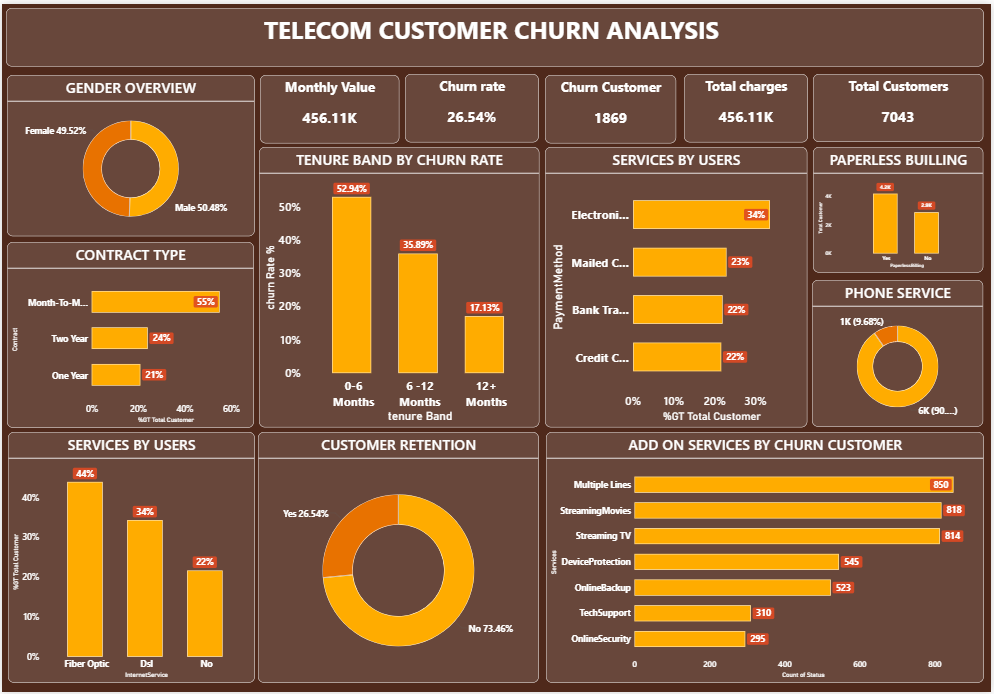

The dashboard page shown, as its layout file describes it:
{"tool":"powerbi","page":{"name":"Page 1","canvas":[2300,1600],"ordinal":0},"visuals":[{"type":"textbox","box":[8.8,8.8,2273.6,136.3],"z":0},{"type":"card","title":"Total Customers","fields":{"Values":["Calculated Measures.Total Customer"]},"box":[1886.6,162.7,395.8,158.3],"z":1000},{"type":"card","title":"Churn rate","fields":{"Values":["Calculated Measures.churn Rate %"]},"box":[937.6,163,311.1,158.7],"z":2000},{"type":"card","title":"Churn Customer","fields":{"Values":["Calculated Measures.Churned Customers"]},"box":[1263.5,165.1,304.8,158.7],"z":3000},{"type":"donutChart","title":"CUSTOMER RETENTION","fields":{"Y":["Calculated Measures.Total Customer"],"Category":["telco_churn_unclean.Churn"]},"box":[595.9,996.1,653.1,582.7],"z":4000},{"type":"clusteredBarChart","title":"CONTRACT TYPE","fields":{"Category":["telco_churn_unclean.Contract"],"Y":["Divide(Calculated Measures.Total Customer, ScopedEval(Calculated Measures.Total Customer, []))"]},"box":[12.7,552.4,573.5,431.7],"z":5000},{"type":"columnChart","title":"TENURE BAND BY CHURN RATE","fields":{"Y":["Calculated Measures.churn Rate %"],"Category":["telco_churn_unclean.tenure Band"]},"box":[596.8,332.3,651.9,651.9],"z":6000},{"type":"card","title":"Total charges","fields":{"Values":["Sum(telco_churn_unclean.MonthlyCharges)"]},"box":[1585.2,163,287.8,158.7],"z":7000},{"type":"card","title":"Monthly Value","fields":{"Values":["Sum(telco_churn_unclean.MonthlyCharges)"]},"box":[598.9,165.1,323.8,158.7],"z":8000},{"type":"columnChart","title":"SERVICES BY USERS","fields":{"Category":["telco_churn_unclean.InternetService"],"Y":["Calculated Measures.Total Customer"]},"box":[13.2,996.1,573.9,582.7],"z":9000},{"type":"clusteredBarChart","title":"SERVICES BY USERS","fields":{"Category":["telco_churn_unclean.PaymentMethod"],"Y":["Divide(Calculated Measures.Total Customer, ScopedEval(Calculated Measures.Total Customer, []))"]},"box":[1263.5,332.3,609.5,651.9],"z":10000},{"type":"donutChart","title":"GENDER OVERVIEW","fields":{"Y":["CountNonNull(telco_churn_unclean.customerID)"],"Category":["telco_churn_unclean.gender"]},"box":[10.6,165.1,575.7,374.6],"z":11000},{"type":"clusteredBarChart","title":"ADD ON SERVICES BY CHURN CUSTOMER","fields":{"Category":["Churn_status.Services"],"Y":["CountNonNull(Churn_status.Status)"]},"box":[1264.3,996.1,1018.1,582.7],"z":12000},{"type":"columnChart","title":"PAPERLESS BUILLING","fields":{"Category":["telco_churn_unclean.PaperlessBilling"],"Y":["Calculated Measures.Total Customer"]},"box":[1886.6,332,395.8,292.4],"z":14000},{"type":"donutChart","title":"PHONE SERVICE","fields":{"Category":["telco_churn_unclean.PhoneService"],"Y":["Calculated Measures.Total Customer"]},"box":[1884.4,642.1,398,340.8],"z":14001}]}

Visuals, with their boxes in screenshot pixels (x1, y1, x2, y2), scaled from the page's 2300x1600 canvas onto the 994x694 screenshot:
textbox: bbox=[4, 4, 986, 63]
"Total Customers" card: bbox=[815, 71, 986, 139]
"Churn rate" card: bbox=[405, 71, 540, 140]
"Churn Customer" card: bbox=[546, 72, 678, 140]
"CUSTOMER RETENTION" donutChart: bbox=[258, 432, 540, 685]
"CONTRACT TYPE" clusteredBarChart: bbox=[5, 240, 253, 427]
"TENURE BAND BY CHURN RATE" columnChart: bbox=[258, 144, 540, 427]
"Total charges" card: bbox=[685, 71, 809, 140]
"Monthly Value" card: bbox=[259, 72, 399, 140]
"SERVICES BY USERS" columnChart: bbox=[6, 432, 254, 685]
"SERVICES BY USERS" clusteredBarChart: bbox=[546, 144, 809, 427]
"GENDER OVERVIEW" donutChart: bbox=[5, 72, 253, 234]
"ADD ON SERVICES BY CHURN CUSTOMER" clusteredBarChart: bbox=[546, 432, 986, 685]
"PAPERLESS BUILLING" columnChart: bbox=[815, 144, 986, 271]
"PHONE SERVICE" donutChart: bbox=[814, 279, 986, 426]
